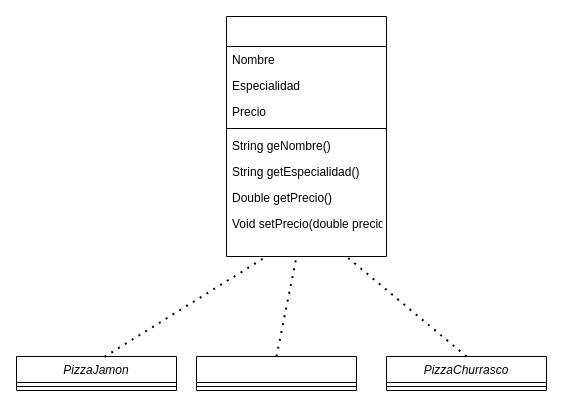
Some shapes in this 563 by 407 pixel diagram are drawn without their labels. Each missing label, with the box of its shape:
Pizza: (226, 16, 386, 256)
PizzaPepperoni: (196, 356, 356, 390)
